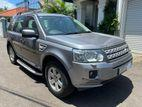car: (4, 9, 135, 102)
